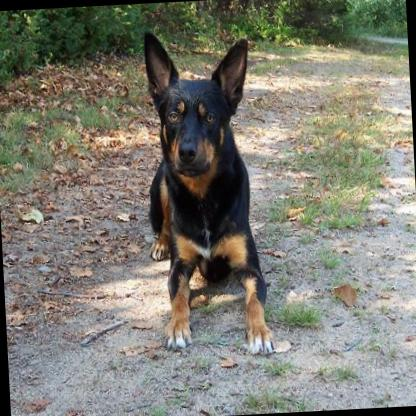kelpie: (136, 24, 275, 360)
